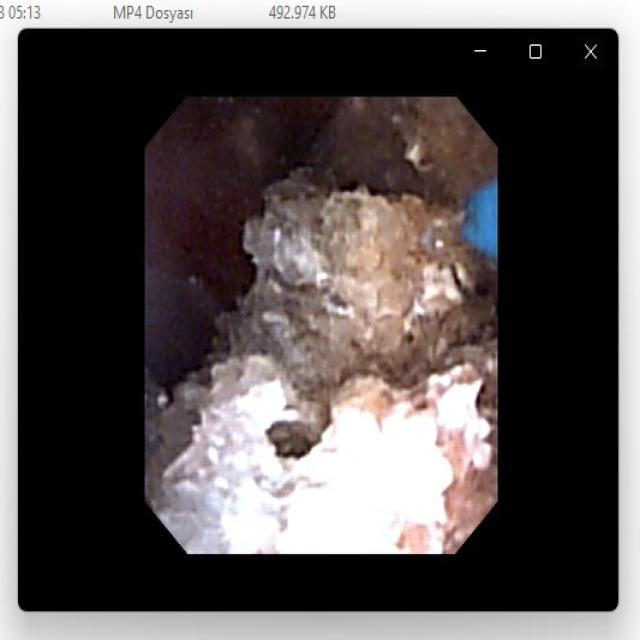stone: (150, 101, 494, 546)
